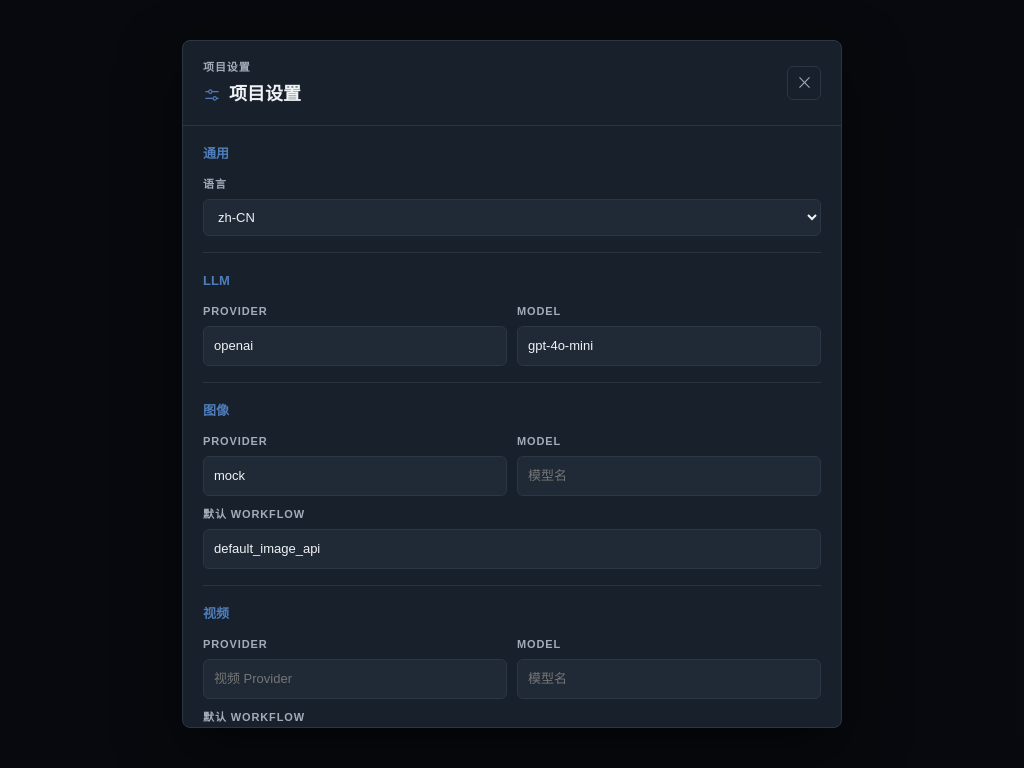
Scenario: ProjectSettingsModal › surfaces a backend save error via the error panel
expect the field showing "openai" below "LLM" is shown: met, box 203,326 -> 507,366
Select "en" in the dropdown showing "zh-CN" at (512,217), box 203,199 -> 821,236
(page scrolled)
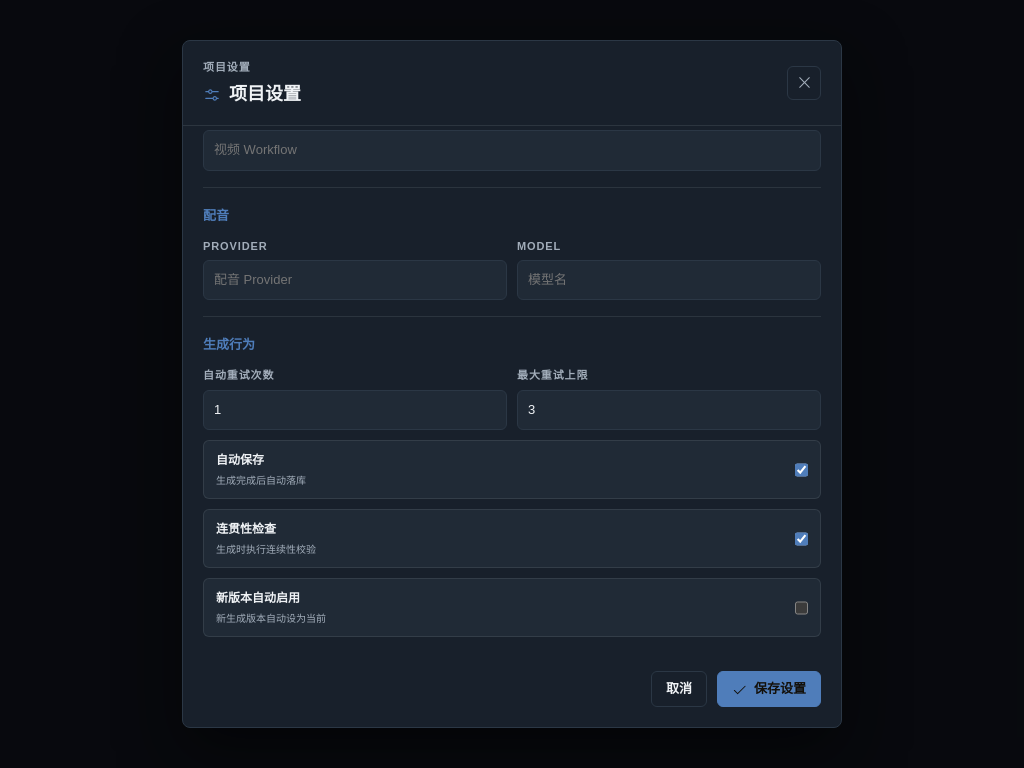
expect the button "保存设置" is enabled: met
Click the button "保存设置" at (769,689), box 717,671 -> 821,707
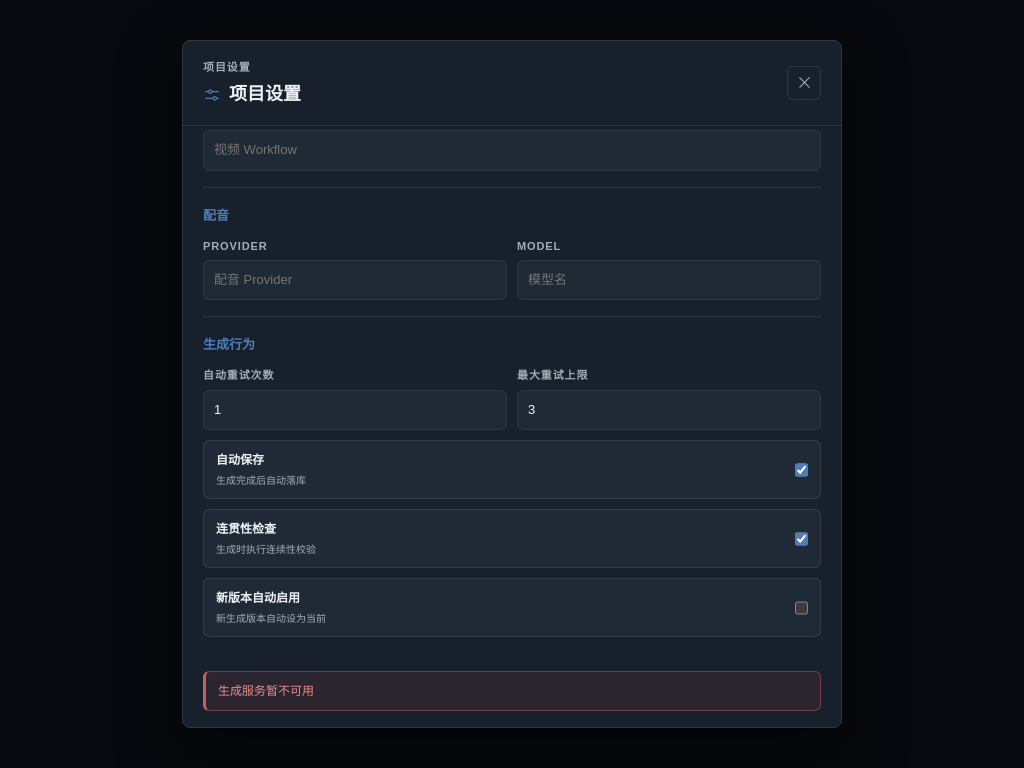
expect the text "生成服务暂不可用" is shown: met, box 218,682 -> 314,700
